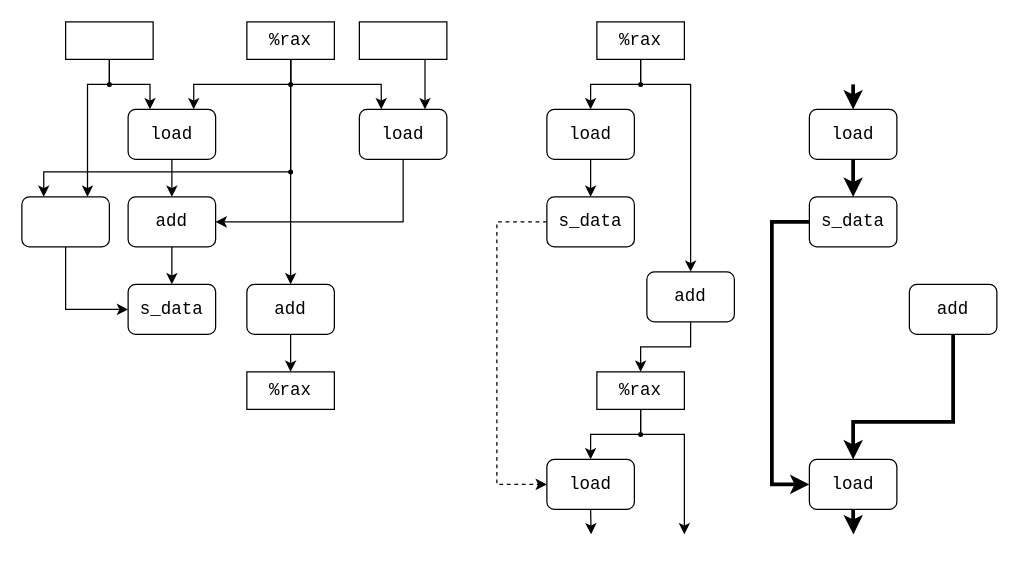
The diagram is 1019 pixels wide and 568 high, and some of its shapes have lost their labels. Each missing label, with the box of its shape:
%rdi: (358, 21, 447, 59)
%rsi: (64, 21, 153, 59)
s_addr: (21, 196, 109, 247)
